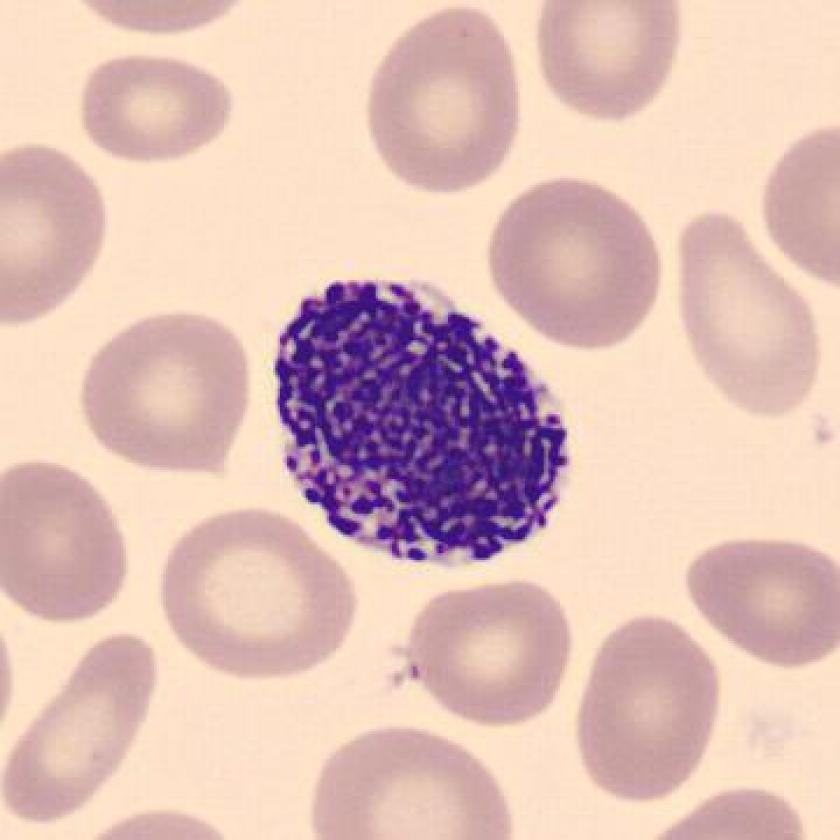basophil: (260, 267, 577, 584)
